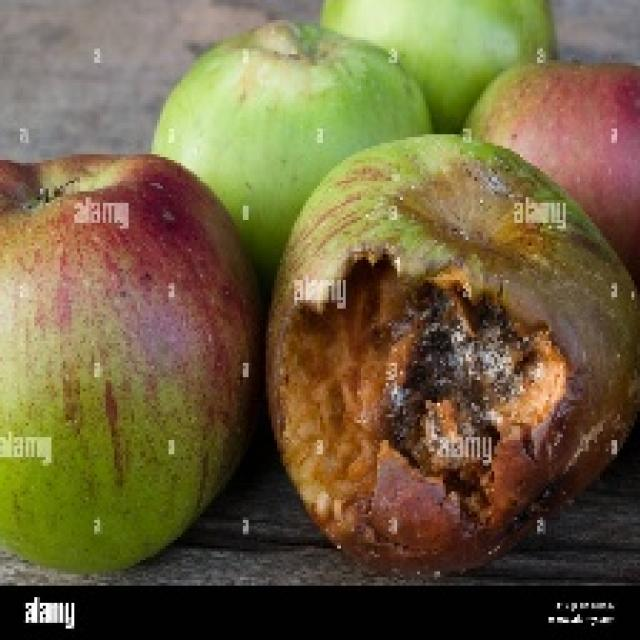rotten_apple: (270, 139, 627, 560)
